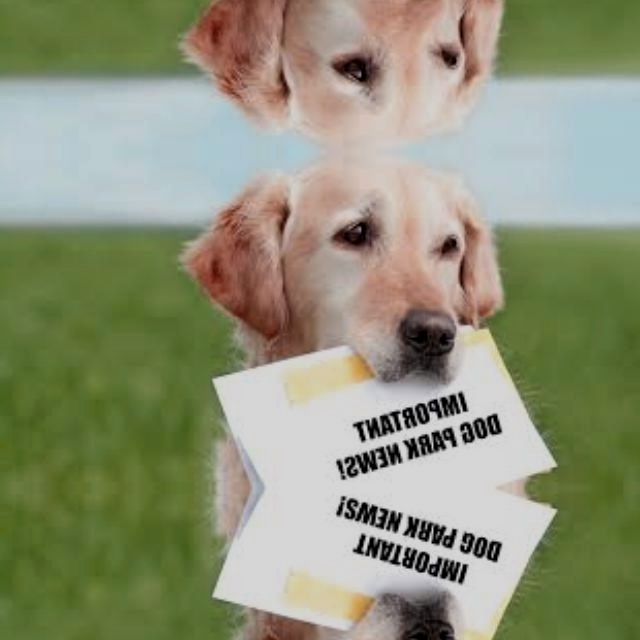dog: (170, 164, 542, 488), (170, 487, 542, 640), (170, 0, 542, 138)
